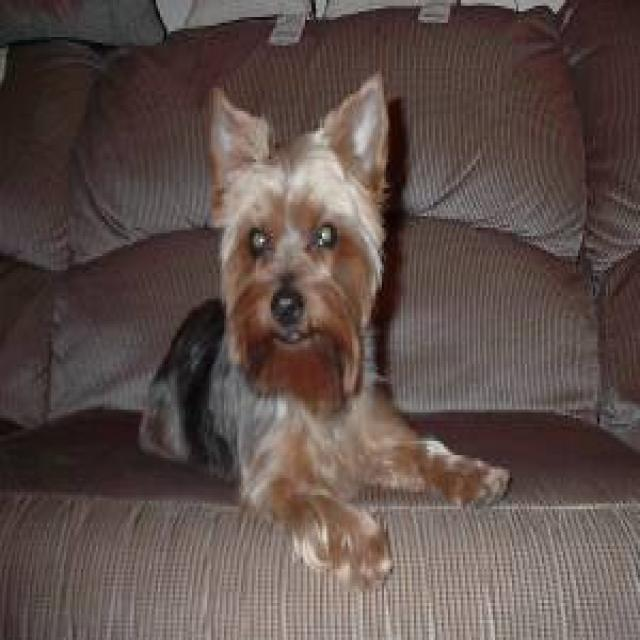dog-yorkshire_terrier: (139, 68, 510, 609)
